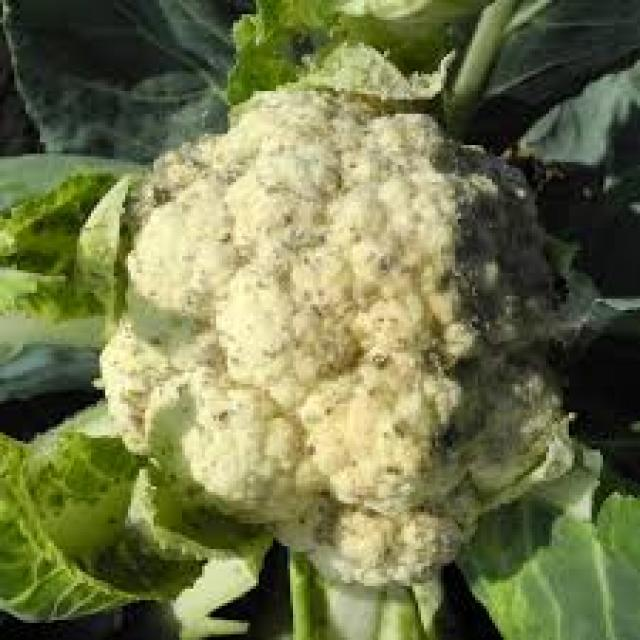organic waste: (0, 0, 637, 637), (68, 60, 618, 586)
